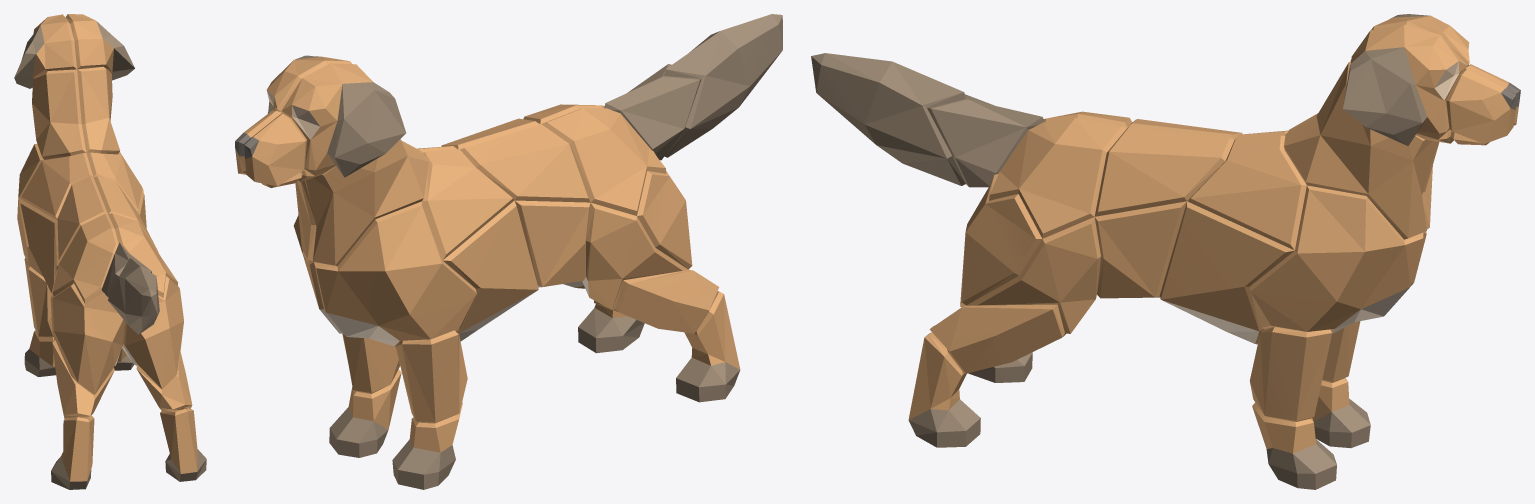
File: level_175.fbx
The picture shows the model from 3 angles, left to right: view 1: azimuth 30°, elevation 25°; view 2: azimuth 150°, elevation 25°; view 3: azimuth 270°, elevation 25°; orthographic projection. The views are drawn at different scales.
Parts seen in each view (by area): view 1: Cube_L4_2, Cube_L1_1, Cube_L4_4, Cube_L2, Cube_L1_2, Cube_L1, Cube_L2_5, Cube_L3, Cube_L1_4, Cube_L4, Cube_L4_8, Cube_L2_2 (+12 smaller); view 2: Cube_L2_8, Cube_L1, Cube_L1_1, Cube_L3, Cube_L2, Cube_L2_4, Cube_L2_2, Cube_L2_5, Cube_L4_3, Cube_L2_1, Cube_L4_7, Cube_L4_1 (+14 smaller); view 3: Cube_L2_11, Cube_L1_2, Cube_L3, Cube_L1_4, Cube_L2_9, Cube_L2_3, Cube_L2_7, Cube_L2_10, Cube_L4_5, Cube_L2_6, Cube_L4_6, Cube_L4_10 (+10 smaller).
Part boxes in pixels (x1=…): Cube_L4_2: x1=52, y1=283, x2=124, y2=394; Cube_L1_1: x1=32, y1=69, x2=86, y2=159; Cube_L4_4: x1=123, y1=276, x2=183, y2=389; Cube_L2: x1=52, y1=214, x2=118, y2=303; Cube_L1_2: x1=77, y1=66, x2=120, y2=154; Cube_L1: x1=14, y1=14, x2=76, y2=88; Cube_L2_5: x1=21, y1=153, x2=93, y2=219; Cube_L3: x1=108, y1=258, x2=159, y2=334; Cube_L1_4: x1=65, y1=14, x2=134, y2=80; Cube_L4: x1=51, y1=415, x2=94, y2=489; Cube_L4_8: x1=160, y1=408, x2=206, y2=481; Cube_L2_2: x1=57, y1=177, x2=107, y2=262; Cube_L2_8: x1=314, y1=201, x2=476, y2=346; Cube_L1: x1=281, y1=63, x2=406, y2=181; Cube_L1_1: x1=305, y1=139, x2=428, y2=266; Cube_L3: x1=664, y1=14, x2=782, y2=157; Cube_L2: x1=541, y1=108, x2=666, y2=215; Cube_L2_4: x1=443, y1=200, x2=538, y2=341; Cube_L2_2: x1=460, y1=124, x2=590, y2=202; Cube_L2_5: x1=422, y1=149, x2=514, y2=260; Cube_L4_3: x1=582, y1=203, x2=687, y2=309; Cube_L2_1: x1=515, y1=200, x2=590, y2=287; Cube_L4_7: x1=395, y1=330, x2=467, y2=423; Cube_L4_1: x1=594, y1=269, x2=719, y2=333; Cube_L2_11: x1=1250, y1=185, x2=1423, y2=333; Cube_L1_2: x1=1284, y1=61, x2=1436, y2=239; Cube_L3: x1=811, y1=53, x2=965, y2=185; Cube_L1_4: x1=1343, y1=24, x2=1467, y2=145; Cube_L2_9: x1=1160, y1=201, x2=1294, y2=344; Cube_L2_3: x1=989, y1=118, x2=1127, y2=238; Cube_L2_7: x1=1094, y1=127, x2=1234, y2=216; Cube_L2_10: x1=1187, y1=135, x2=1306, y2=250; Cube_L4_5: x1=967, y1=217, x2=1100, y2=333; Cube_L2_6: x1=1094, y1=201, x2=1186, y2=298; Cube_L4_6: x1=929, y1=304, x2=1065, y2=373; Cube_L4_10: x1=1250, y1=327, x2=1332, y2=421.
Size of the model in its own units: 11.48 by 17.25 by 24.84.
